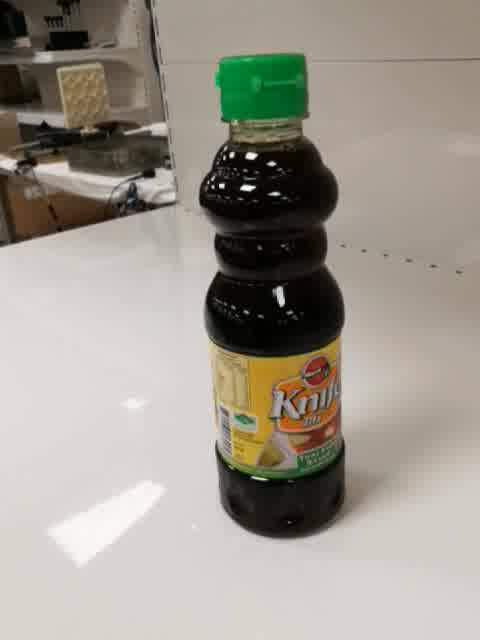cookingoil: (196, 49, 348, 541)
